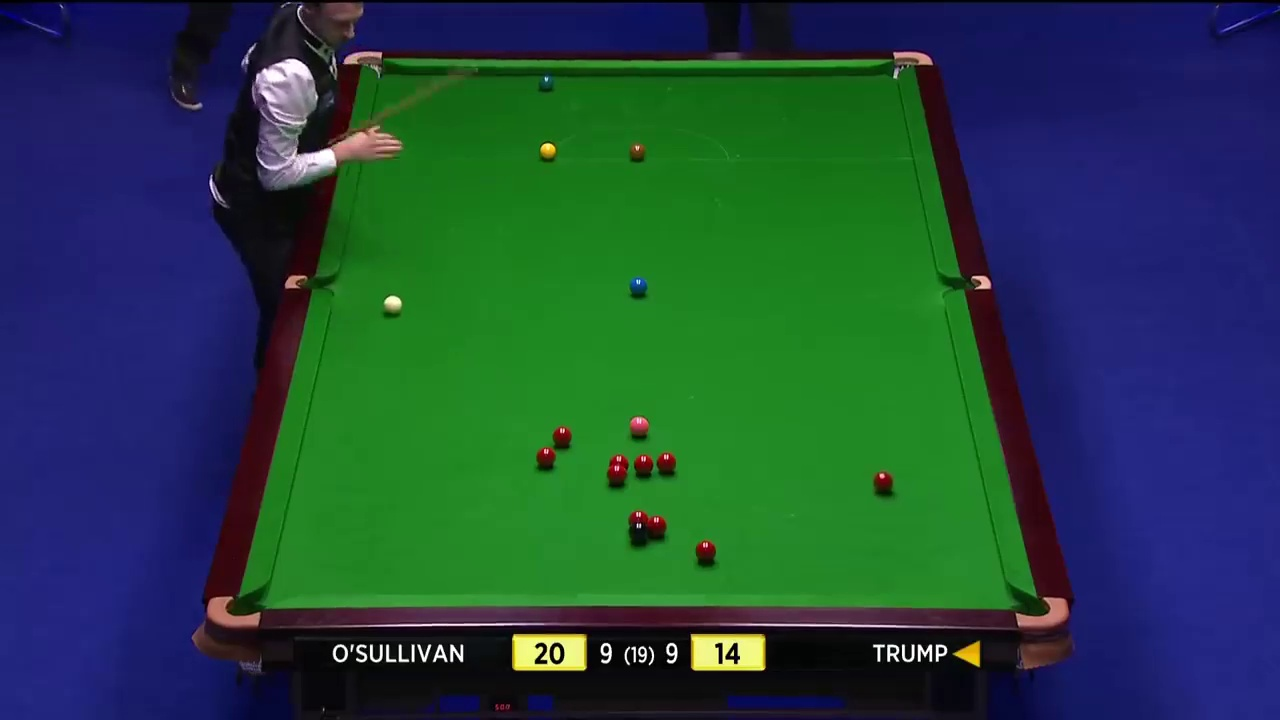ball: (603, 462, 631, 484), (875, 469, 898, 494), (694, 538, 716, 562), (628, 414, 649, 438), (535, 446, 557, 467), (656, 451, 678, 472), (630, 275, 647, 299), (539, 141, 558, 162), (628, 142, 646, 160), (539, 70, 554, 91)
